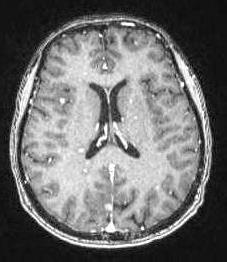Normal_Brain: (9, 2, 227, 262)
